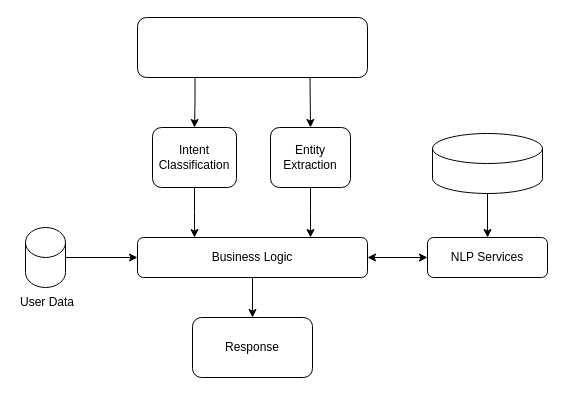
The diagram is 565 pixels wide and 395 high, and some of its shapes have lost their labels. The shapes that lost their labels are listed below. From the top down, each one's centre as x and y in pixels, then its label:
At (252,47): "User Message".
At (487,163): "Knowledge DB".
